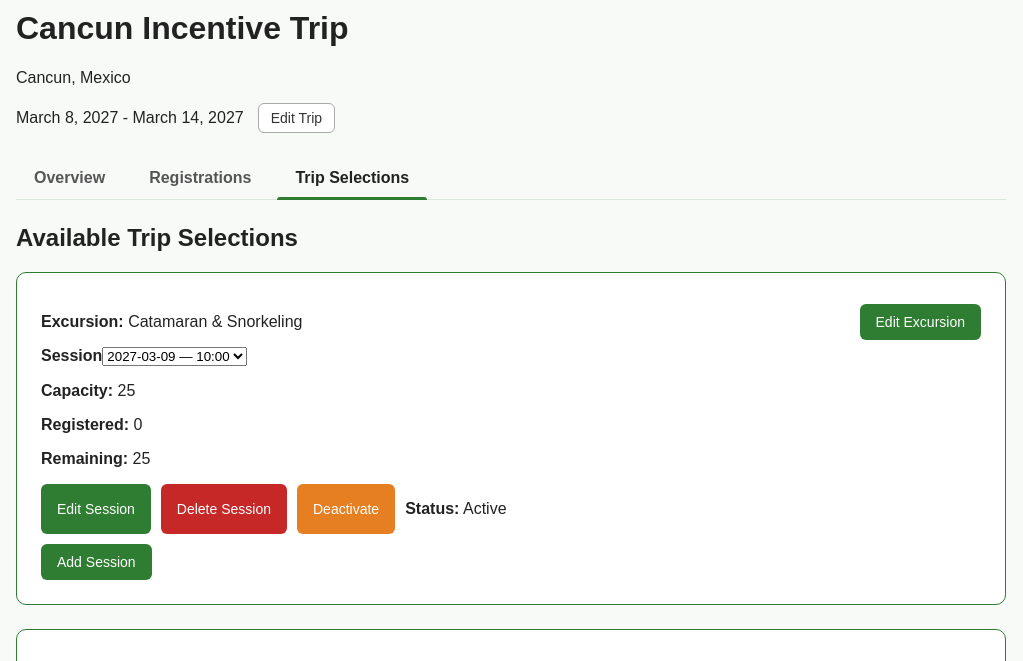
Test: TripManagement › edits an existing trip selection
Click the button "Edit Excursion" in the row of "Catamaran & Snorkeling". click: (920, 322)
box: [860,304,981,340]
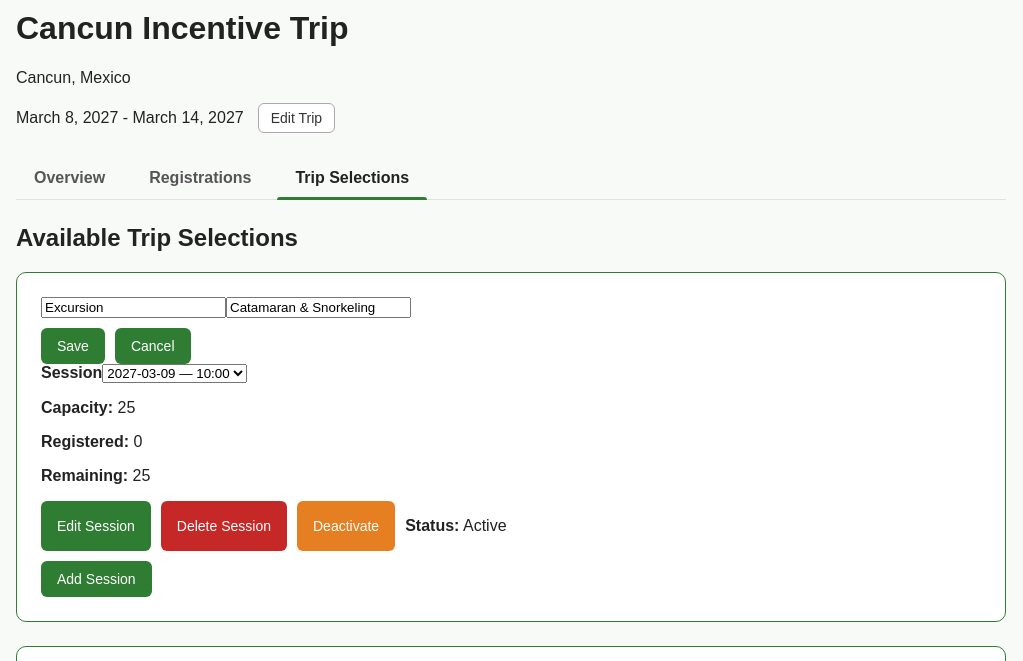
Replace the text in the 2nd field showing "Catamaran & Snorkeling" with "Catamaran Adventure". click: (318, 307)
box: [226,297,411,318]
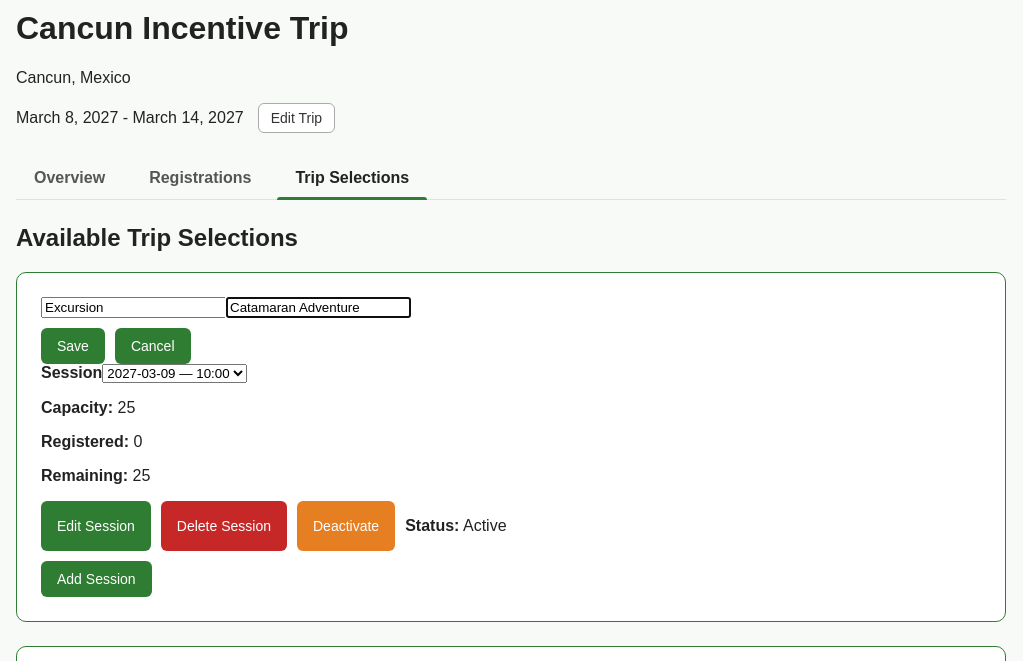
Click the button "Save". click: (73, 346)
box: [41,328,105,364]
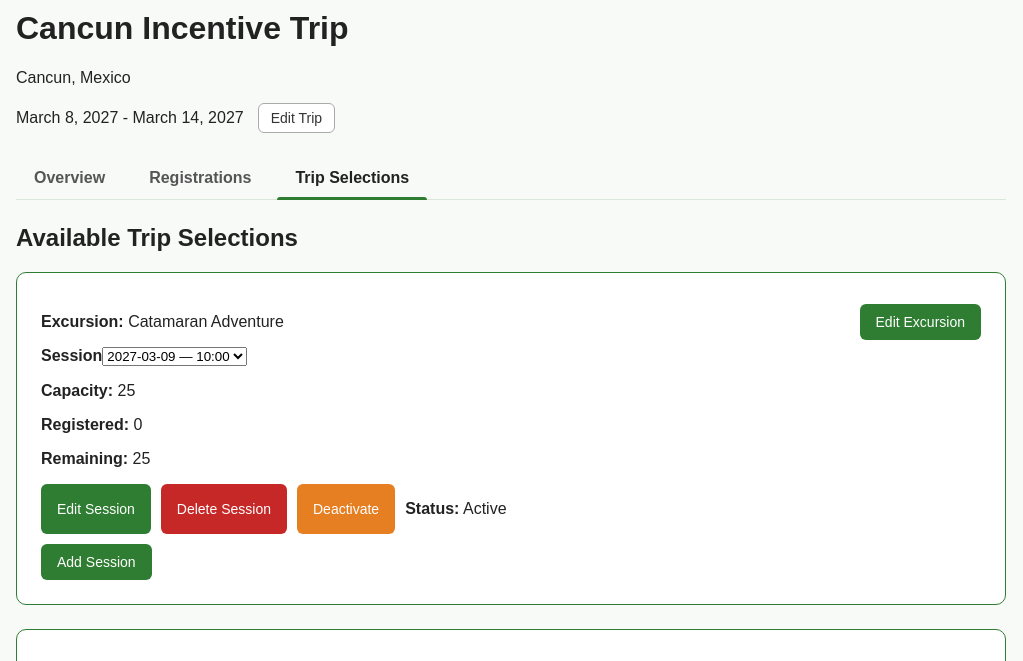
Expected: the text "Catamaran & Snorkeling" is not shown
Expected: the text "Catamaran Adventure" is shown, [128,313,284,330]
